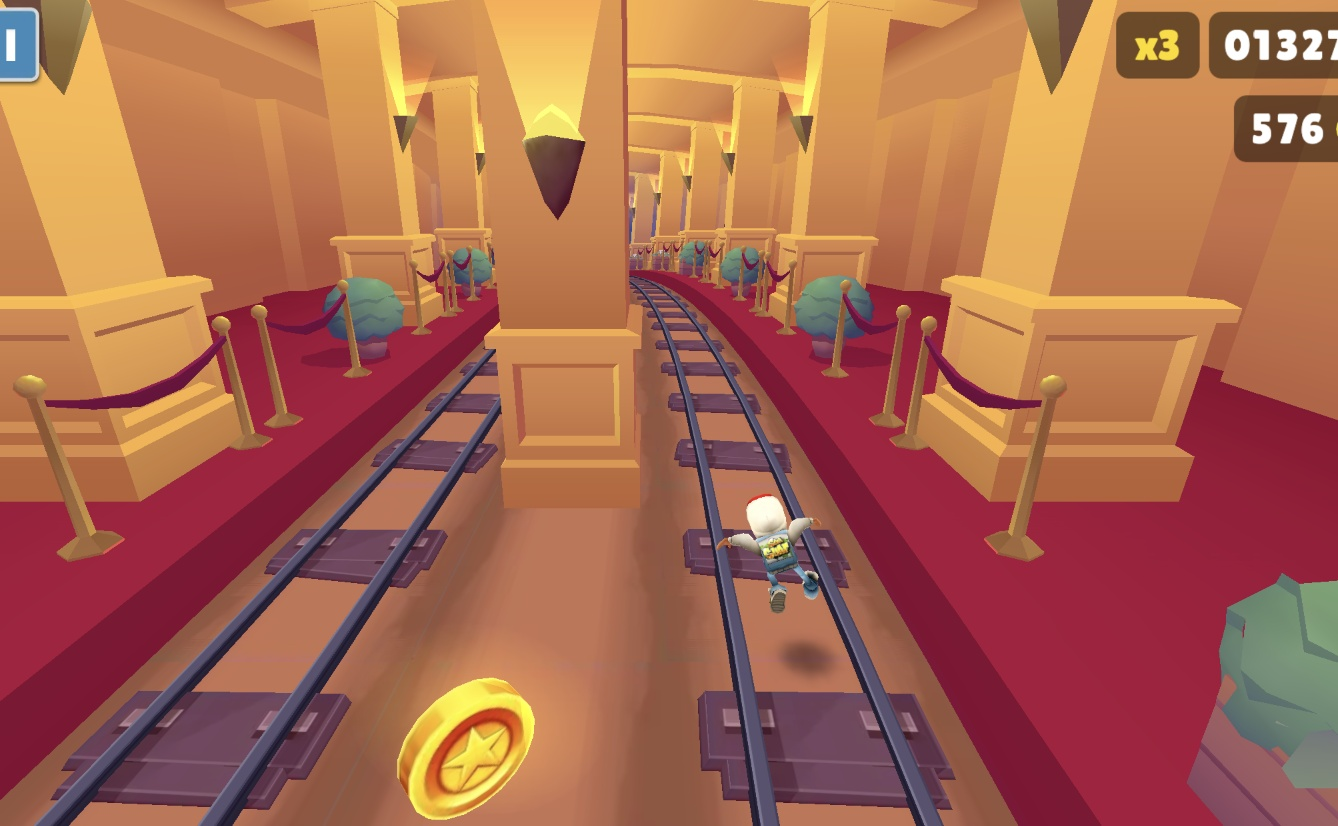pillar: (474, 0, 649, 509)
train: (494, 210, 534, 304)
